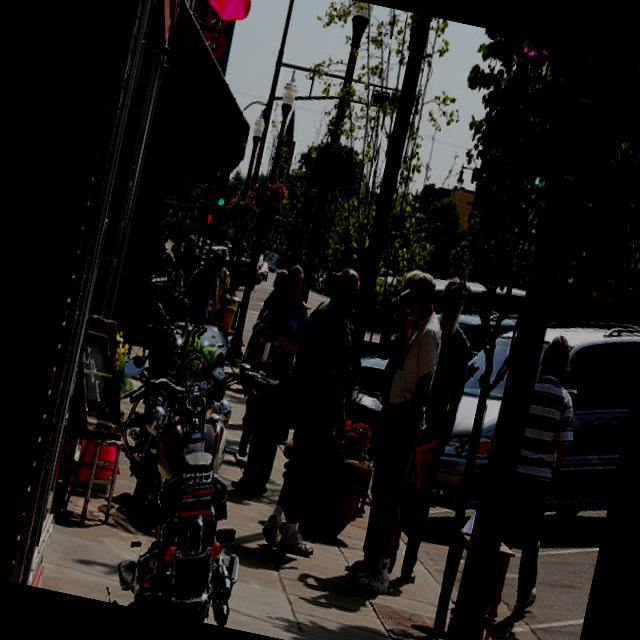Vehicle: (430, 288, 640, 539), (116, 354, 270, 625), (125, 314, 288, 548), (350, 286, 518, 436), (100, 317, 191, 471), (357, 294, 409, 364), (234, 256, 266, 294), (200, 241, 230, 266), (254, 260, 270, 282)
